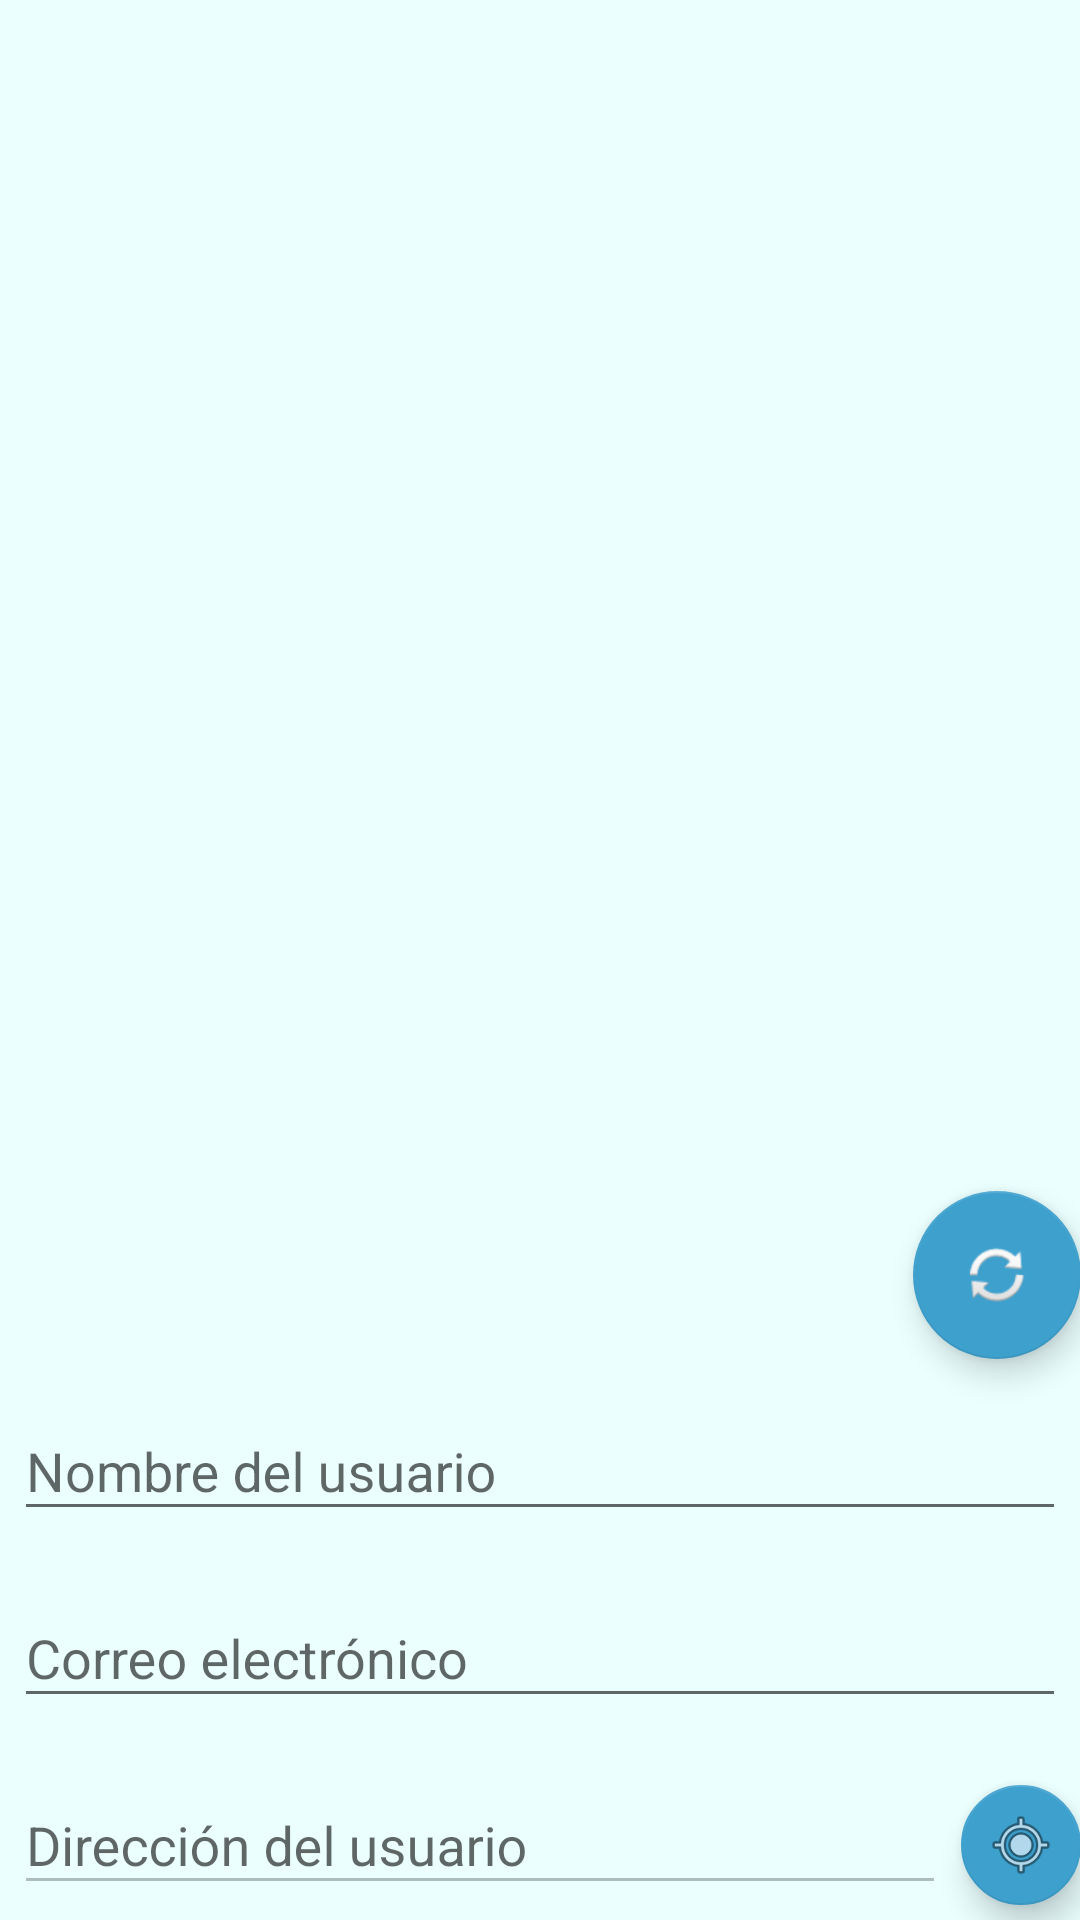

Icons on this 1080px x 1920px Android screen, each with its box as (x1, y1, x2, y2):
mylocation: (961, 1785, 1080, 1905)
popup sync: (913, 1191, 1080, 1359)
